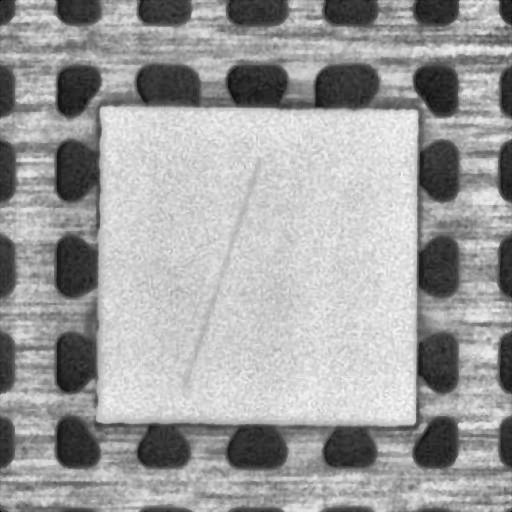DIE_CRACK: (182, 158, 258, 388)
